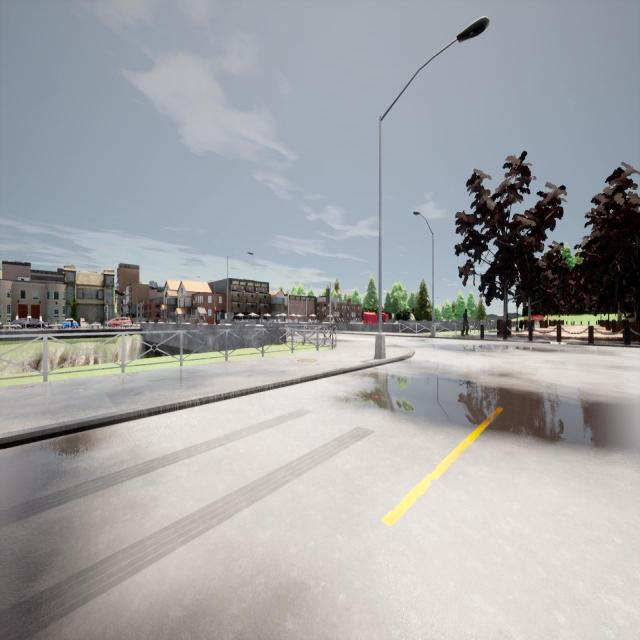Pedestrian: (461, 308, 469, 336)
Vehicle: (11, 318, 45, 329), (108, 317, 131, 327), (61, 318, 79, 329)
traffic_light: (326, 289, 330, 303), (104, 306, 107, 313), (214, 306, 216, 314)
